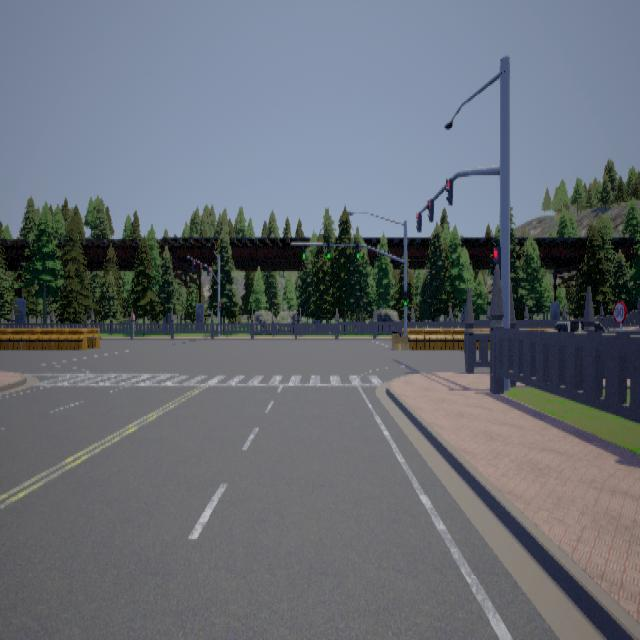green_light: (302, 244, 306, 258), (403, 290, 406, 305), (327, 244, 330, 258), (356, 245, 359, 258)
red_light: (490, 244, 500, 278), (445, 177, 452, 204), (426, 197, 433, 221), (415, 210, 421, 230)
traffic_light: (490, 270, 493, 274)
traffic_sign: (612, 300, 626, 322)
